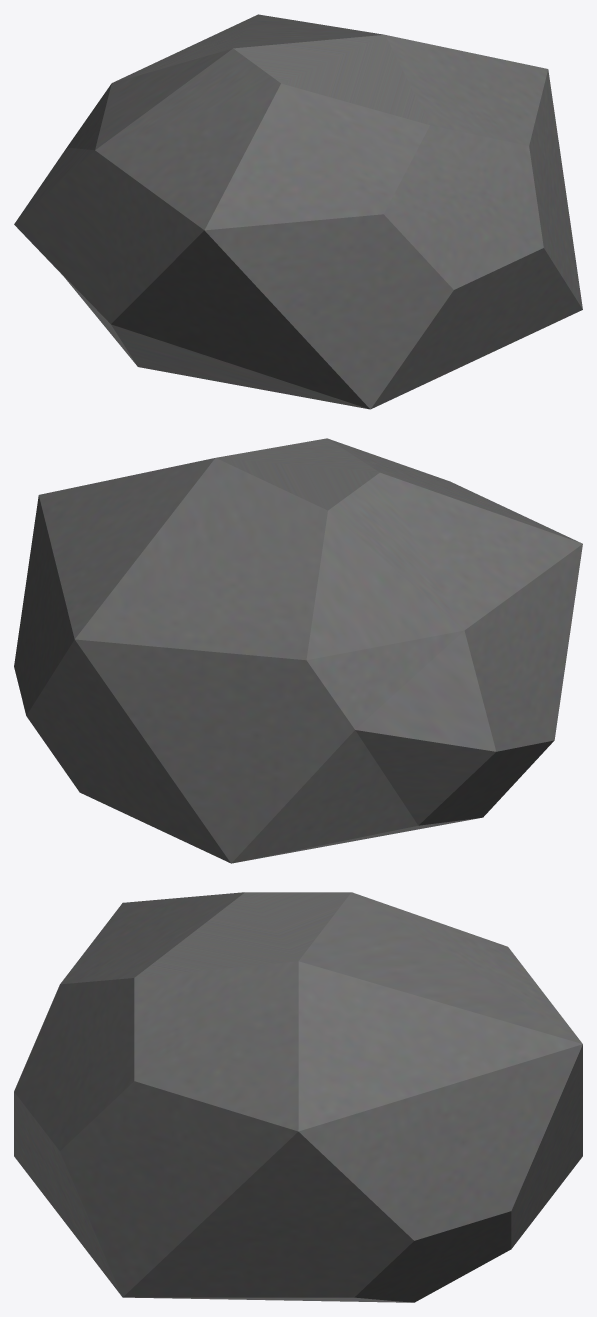
File: Rock2.fbx
The picture shows the model from 3 angles, top to bottom: view 1: azimuth 30°, elevation 25°; view 2: azimuth 150°, elevation 25°; view 3: azimuth 270°, elevation 25°; orthographic projection. The views are drawn at different scales.
Visible parts, largest first — view 1: Rock2; view 2: Rock2; view 3: Rock2.
Boxes of the visible parts, bbox=[...] form: Rock2: bbox=[14, 14, 582, 409]; Rock2: bbox=[14, 438, 582, 863]; Rock2: bbox=[14, 892, 582, 1302].
Size of the model in its own units: 71.53 by 42.68 by 66.53.
